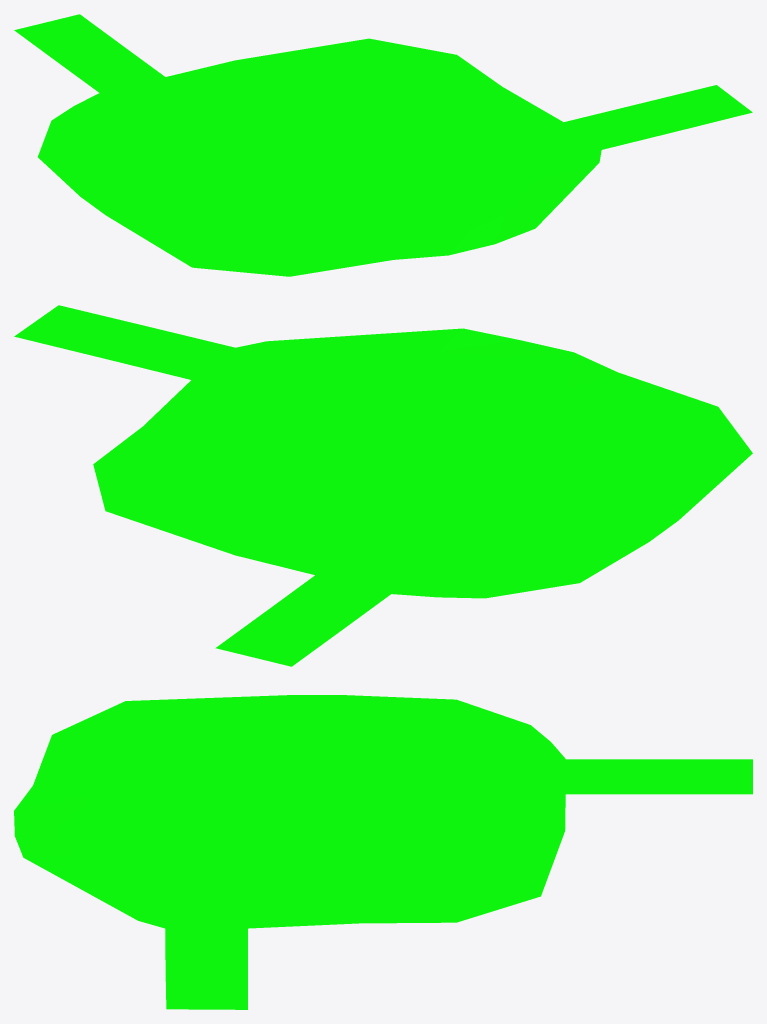
Rendered from s02a_lb1-floor.glb.
The picture shows the model from 3 angles, top to bottom: view 1: azimuth 30°, elevation 25°; view 2: azimuth 150°, elevation 25°; view 3: azimuth 270°, elevation 25°; orthographic projection. The views are drawn at different scales.
Parts seen in each view (by area): view 1: collision_floor-colonly; view 2: collision_floor-colonly; view 3: collision_floor-colonly.
Boxes of the visible parts, x1=… form: collision_floor-colonly: x1=14, y1=14, x2=752, y2=276; collision_floor-colonly: x1=14, y1=305, x2=752, y2=666; collision_floor-colonly: x1=14, y1=695, x2=752, y2=1009.
Bounding box in the file's own units: 53.94 × 0.168 × 53.51.
